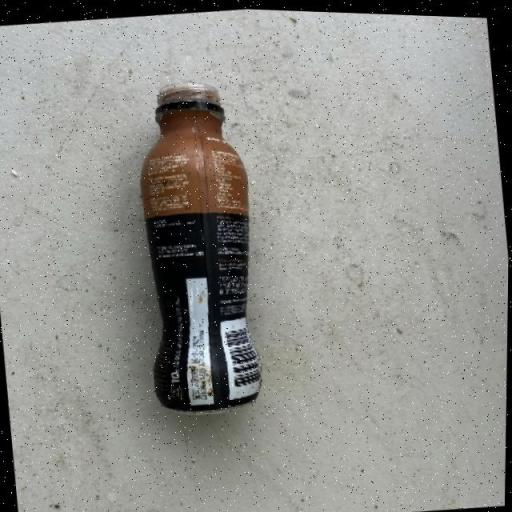plastic: (122, 72, 273, 418)
